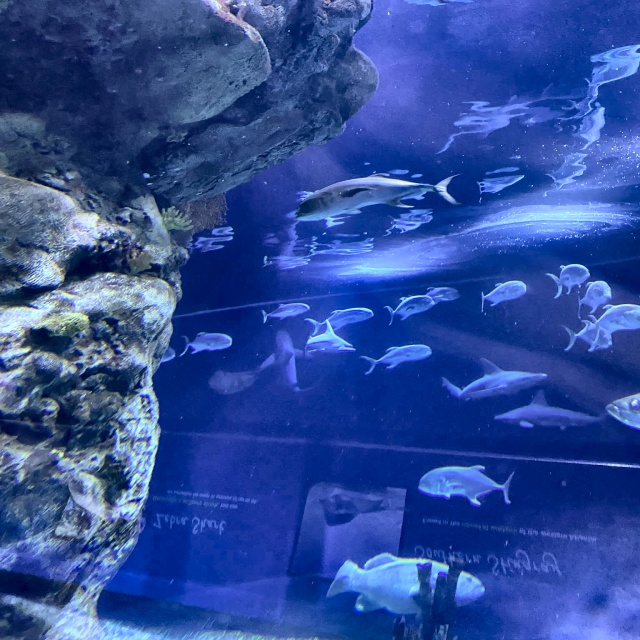fish: (329, 555, 483, 614), (295, 171, 460, 221), (420, 466, 515, 504), (361, 343, 431, 376), (306, 308, 373, 335), (565, 319, 614, 352), (591, 304, 639, 334), (480, 280, 527, 310), (549, 264, 590, 297), (182, 332, 232, 357), (609, 391, 639, 432), (386, 297, 433, 323), (578, 281, 612, 315), (261, 304, 308, 322), (422, 287, 460, 303)
shark: (442, 358, 547, 402), (494, 389, 610, 428), (260, 329, 320, 394), (304, 319, 356, 354)
